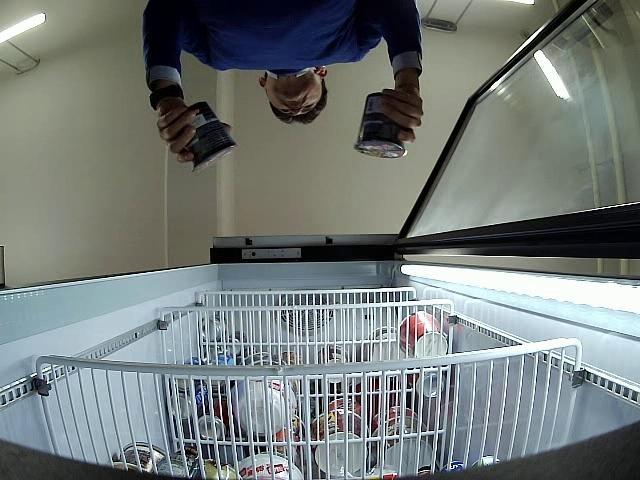08_buldak_S: (184, 100, 238, 173), (354, 92, 406, 159)
